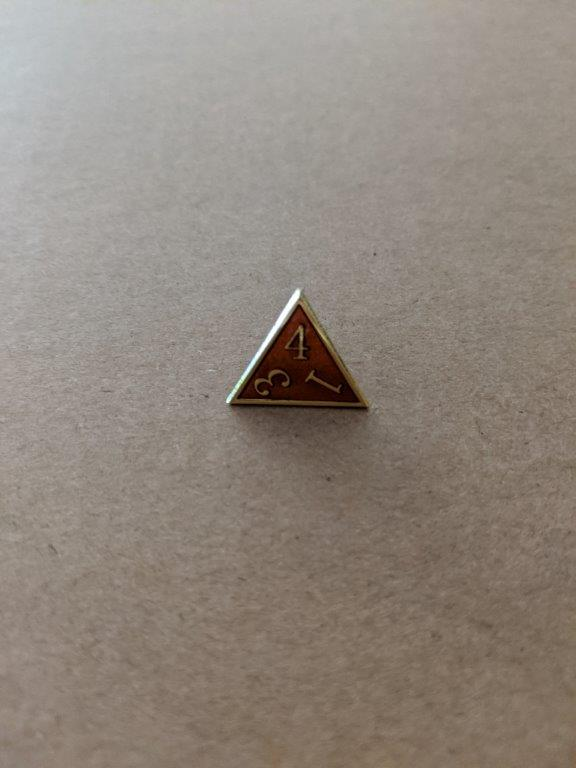d4-4: (223, 287, 373, 412)
